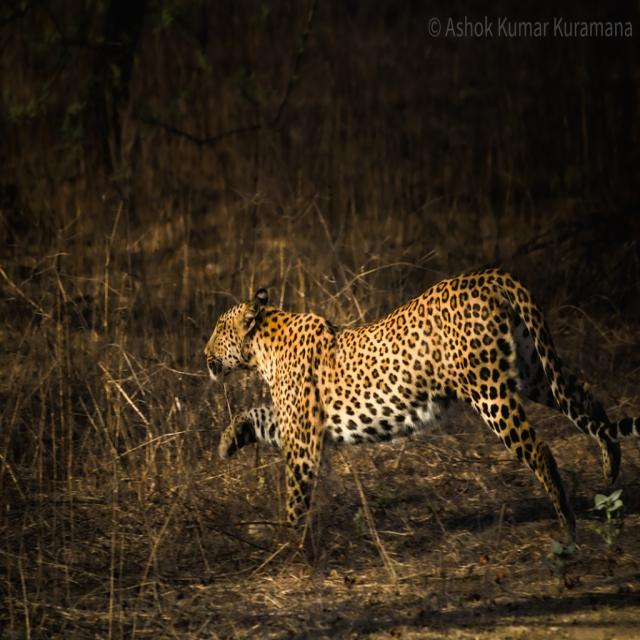Leopard: (208, 268, 623, 549)
